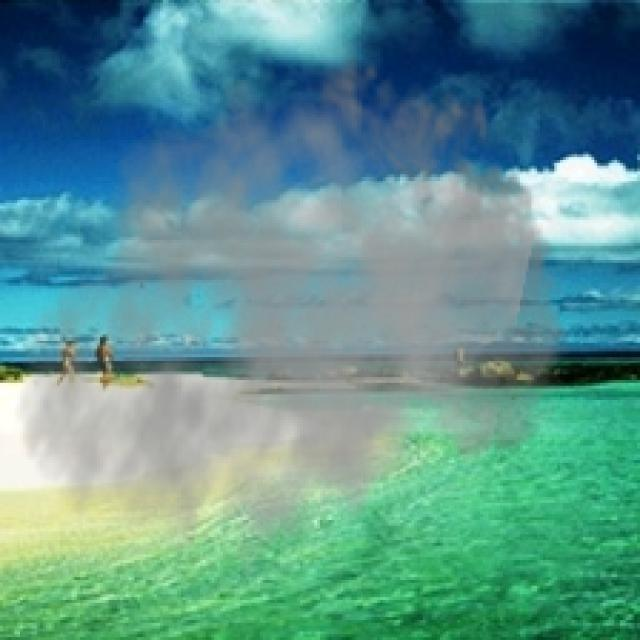Smoke: (14, 34, 577, 600)
